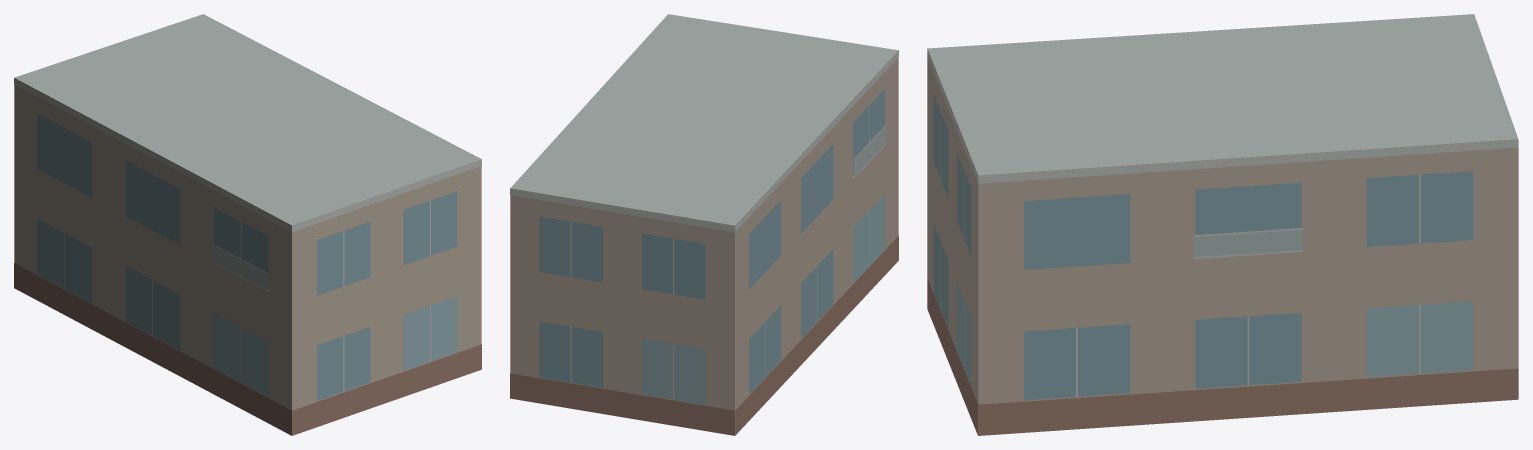
Rendered from survey-upis-32767819.glb.
The picture shows the model from 3 angles, left to right: view 1: azimuth 30°, elevation 25°; view 2: azimuth 150°, elevation 25°; view 3: azimuth 270°, elevation 25°; orthographic projection. The views are drawn at different scales.
Parts seen in each view (by area): view 1: survey-upis-32767819.tmp; view 2: survey-upis-32767819.tmp; view 3: survey-upis-32767819.tmp.
Part boxes in pixels (<box>): survey-upis-32767819.tmp: <box>14,14,481,435</box>; survey-upis-32767819.tmp: <box>510,14,898,435</box>; survey-upis-32767819.tmp: <box>927,14,1518,435</box>.
Size of the model in its own units: 10.11 by 7.6 by 15.64.
